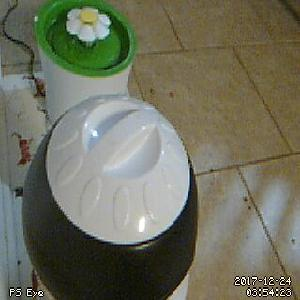fountain: (32, 1, 137, 79)
